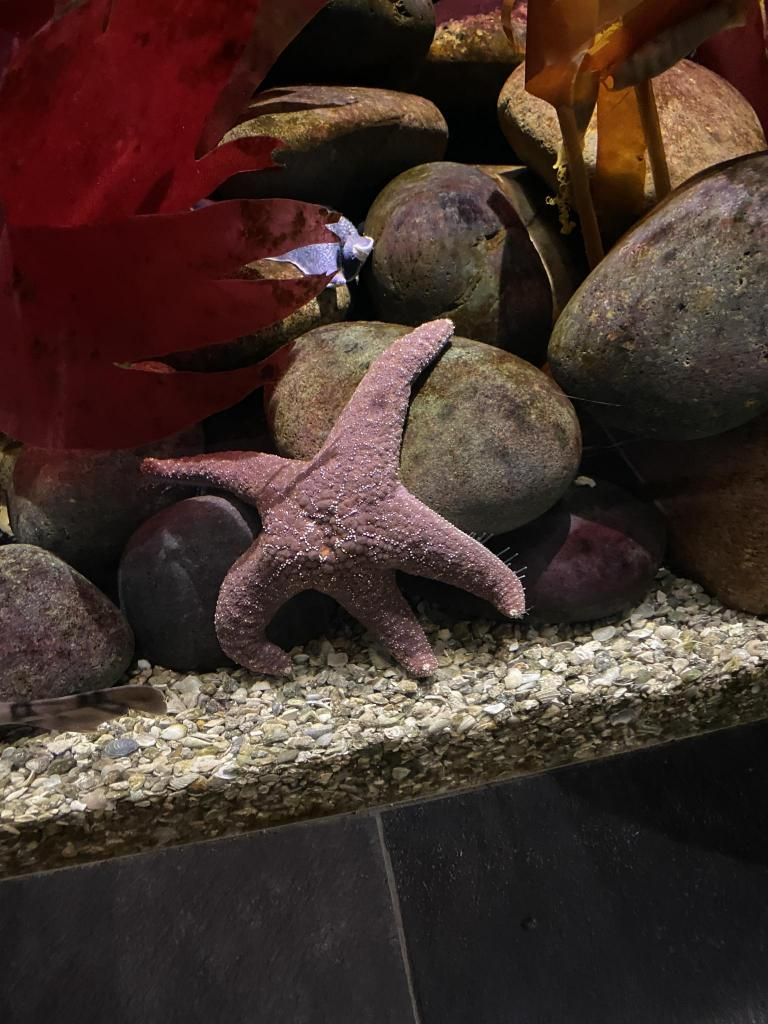starfish: (138, 316, 528, 680)
